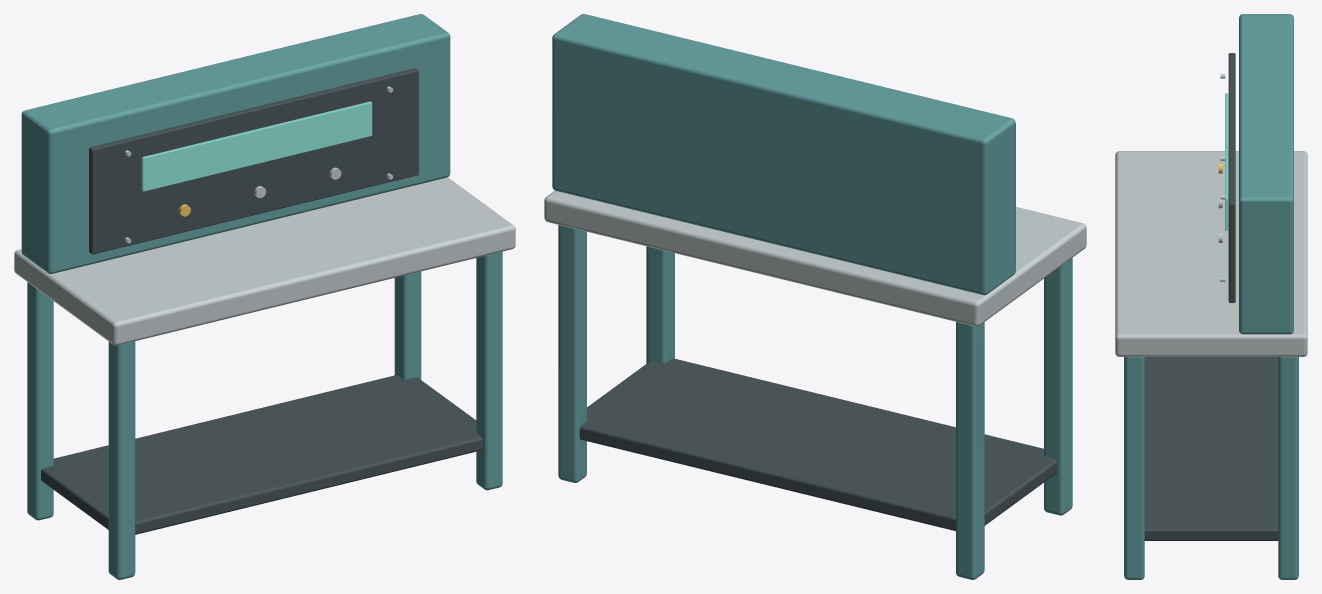
Rendered from hydroelectric-dam-infiltration-control-console-087f17a0__29348.glb.
The picture shows the model from 3 angles, left to right: view 1: azimuth 30°, elevation 25°; view 2: azimuth 150°, elevation 25°; view 3: azimuth 270°, elevation 25°; orthographic projection. The views are drawn at different scales.
Parts seen in each view (by area): view 1: control-console; view 2: control-console; view 3: control-console.
Part boxes in pixels (left/top/right/bottom): control-console: left=14, top=14, right=515, bottom=579; control-console: left=544, top=14, right=1086, bottom=579; control-console: left=1115, top=14, right=1307, bottom=579.
Bounding box in the file's own units: 1.6 × 1.55 × 0.7001.
